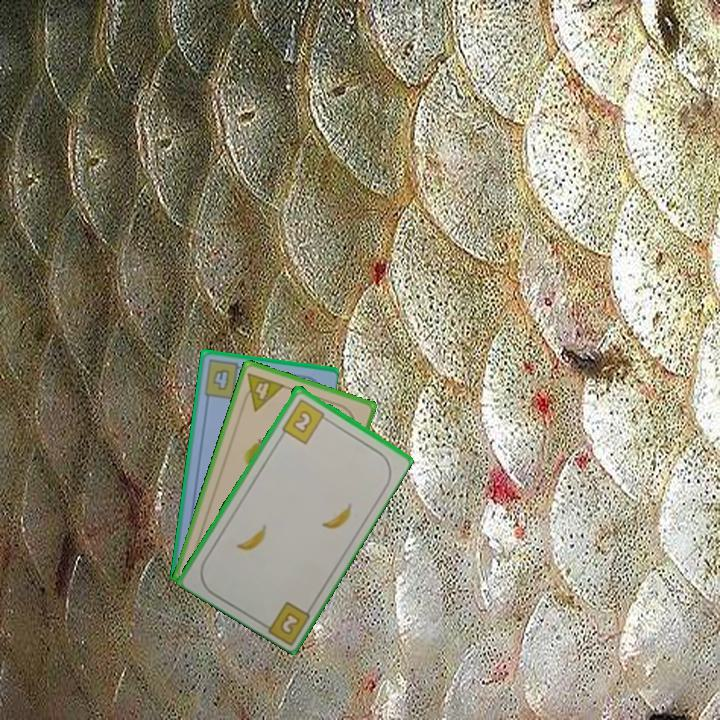2b: (278, 395, 332, 446), (276, 608, 303, 637)
4b: (200, 356, 248, 402)
4p: (238, 369, 288, 414)
